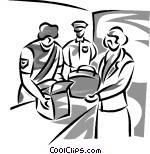person: (90, 24, 133, 139), (18, 18, 67, 111), (60, 15, 95, 69)
